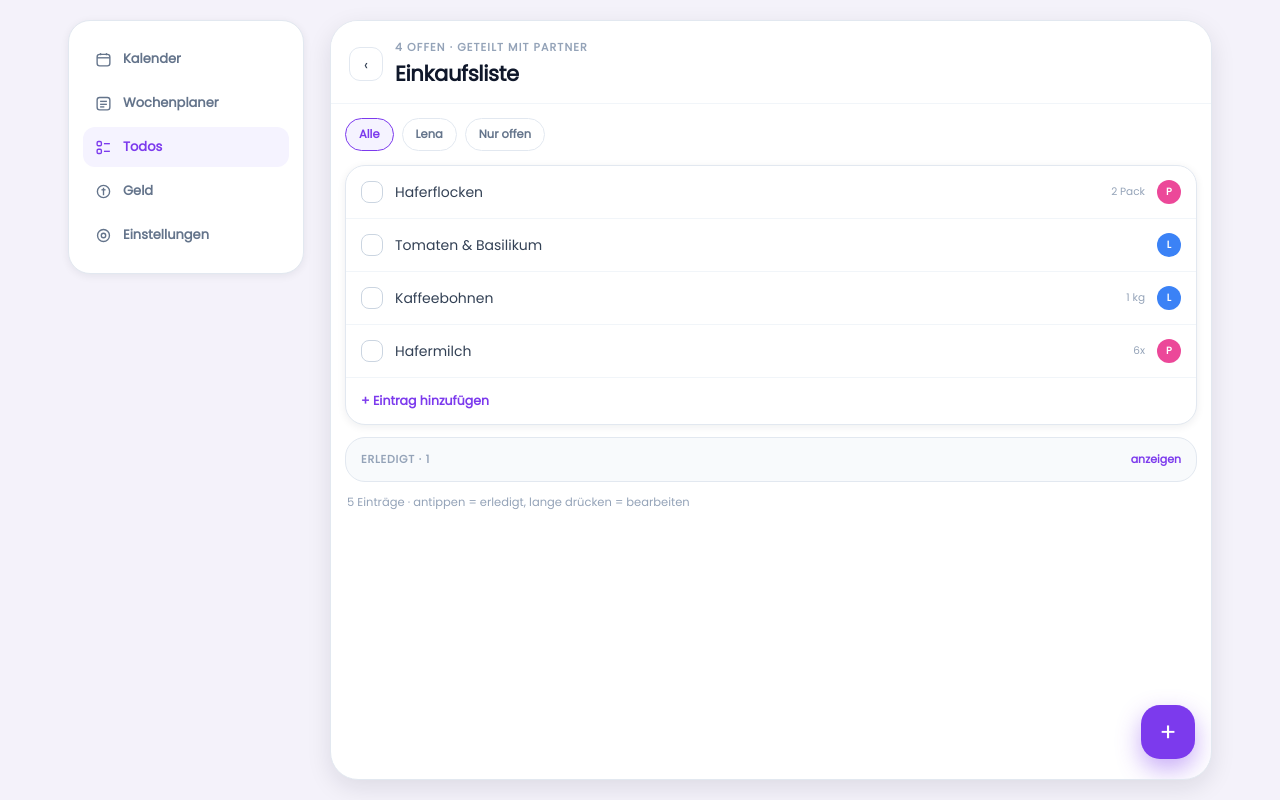
Test: TodoDetail › kehrt ueber Zurueck zur Uebersicht
Click the button named "Zurück". click: point(366, 64)
box: left=349, top=47, right=383, bottom=81
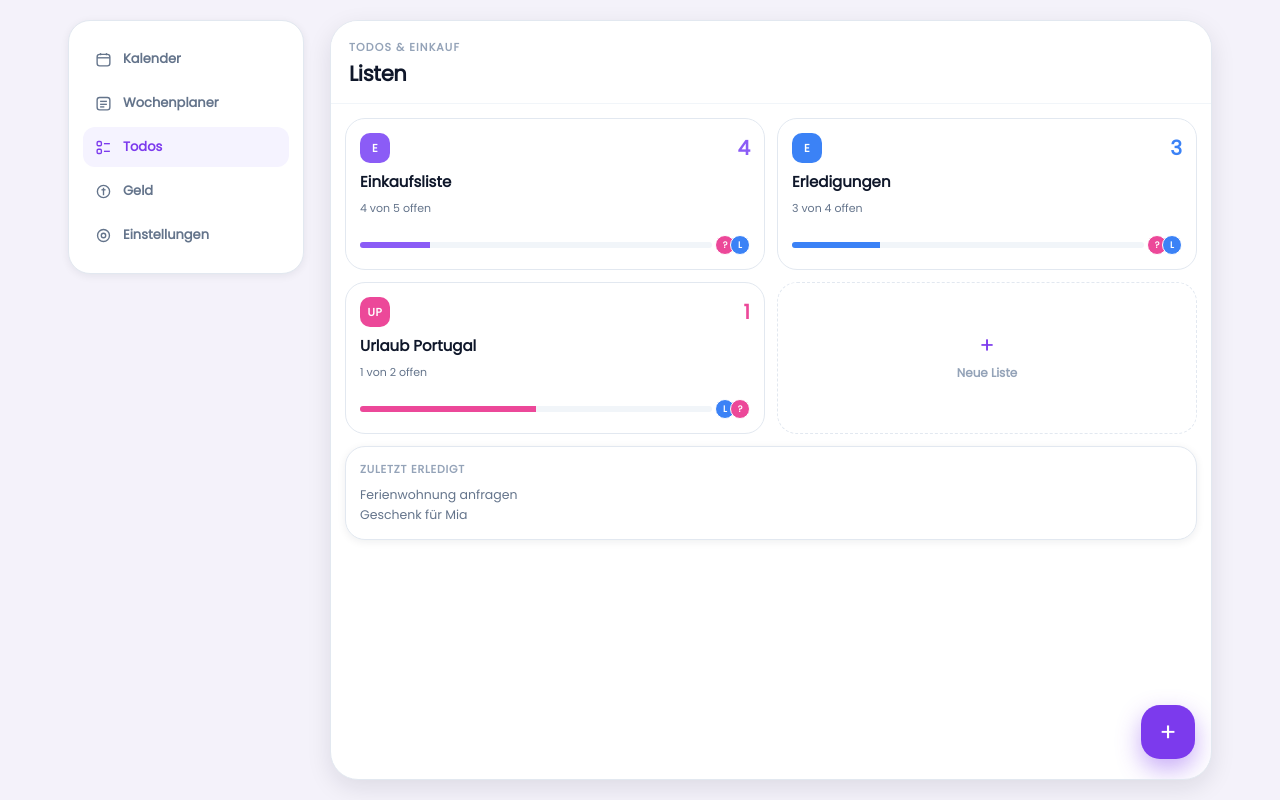
Now the button "+ Neue Liste" is shown, box left=777, top=282, right=1197, bottom=434
